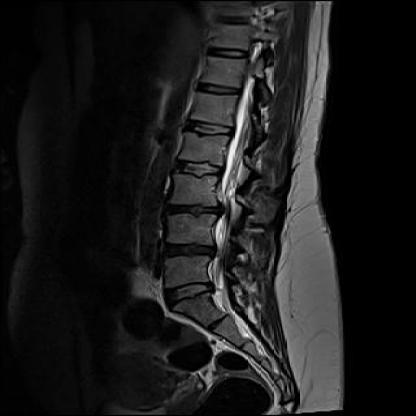Disc Bulgerotation: (158, 276, 220, 314), (164, 197, 236, 223), (160, 238, 222, 267)
